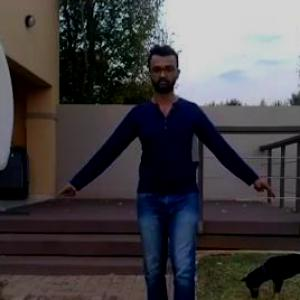land: (86, 66, 252, 299)
